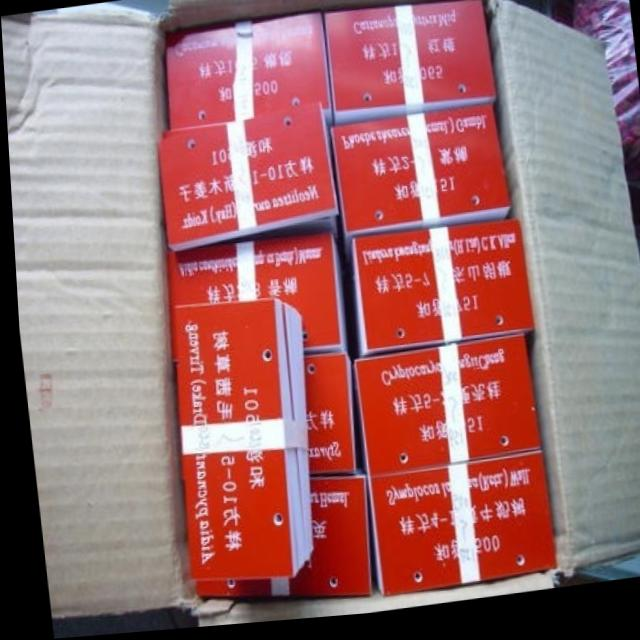box: (169, 301, 307, 583), (326, 112, 509, 268), (361, 457, 550, 602), (347, 342, 536, 483), (156, 106, 336, 254), (346, 224, 530, 362), (165, 223, 343, 364), (188, 469, 366, 601), (324, 6, 495, 129), (164, 18, 332, 133), (301, 358, 350, 479)
